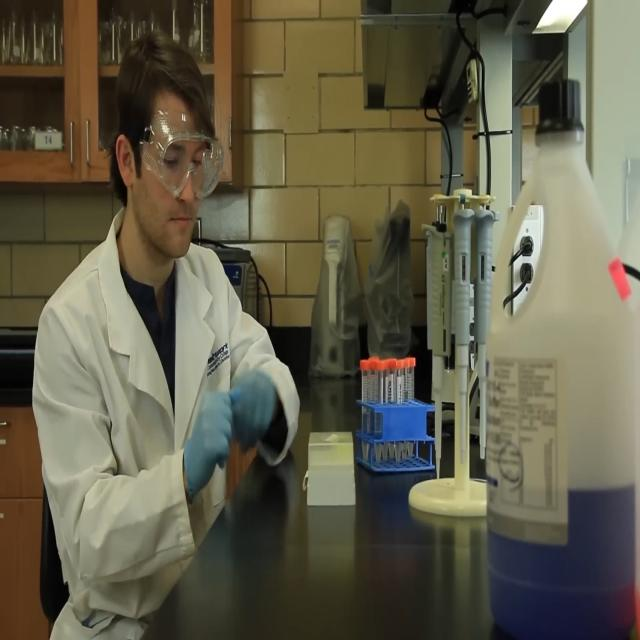googles: (138, 103, 228, 204)
labcoat: (29, 198, 304, 640)
